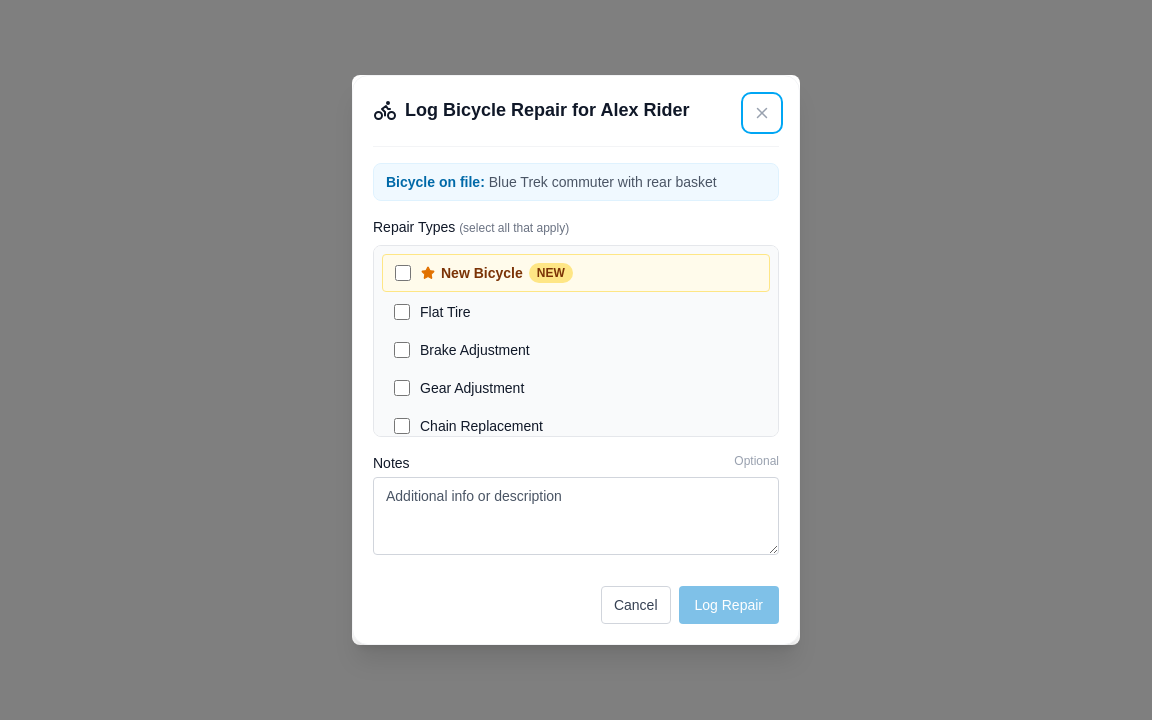
BicycleRepairBooking › interactions › shows count of selected repair types
Step 1. Click the checkbox labelled "Flat Tire" → click(402, 312), box [394,304,410,320]
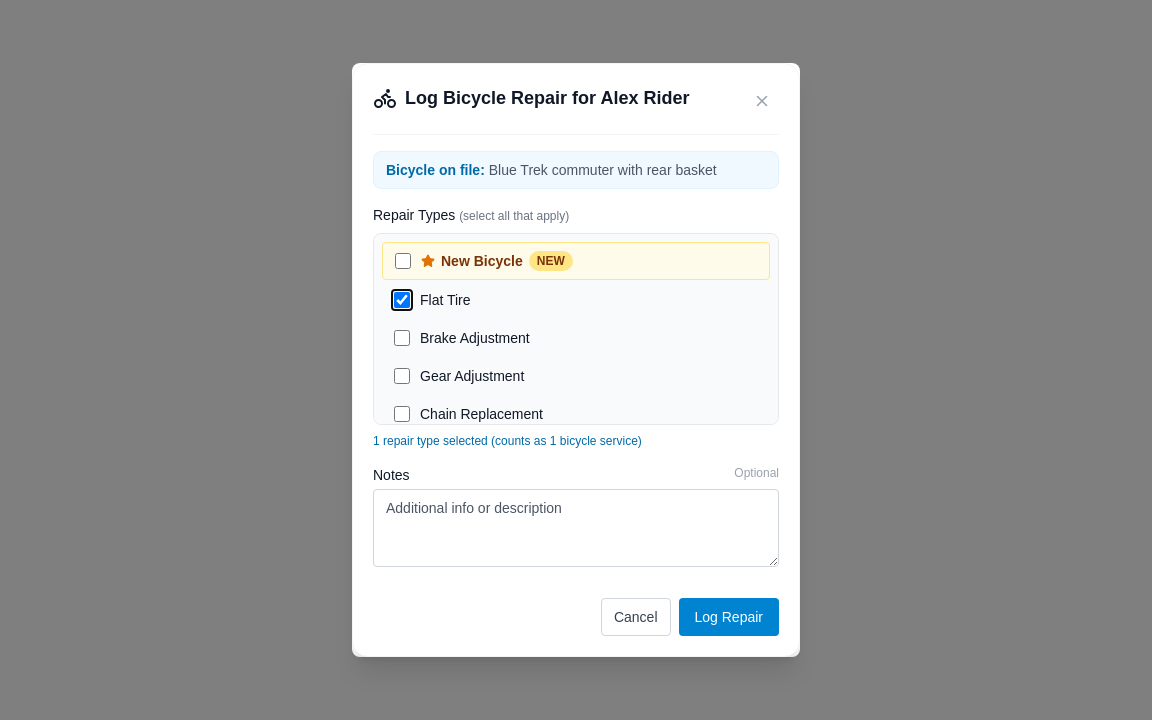
Expected: the text "1 repair type selected (counts as 1 bicycle service)" is shown, [373,434,642,448]
Step 2. Click the checkbox labelled "Brake Adjustment" → click(402, 338), box [394,330,410,346]
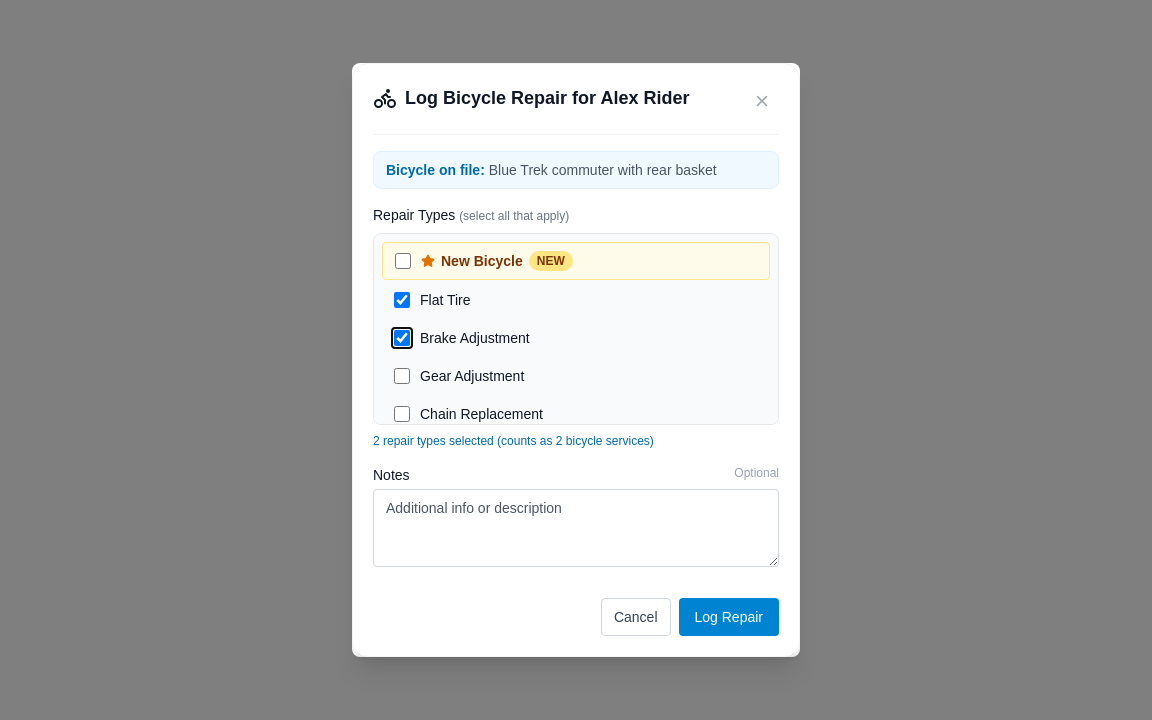
Expected: the text "2 repair types selected (counts as 2 bicycle services)" is shown, [373,434,654,448]
